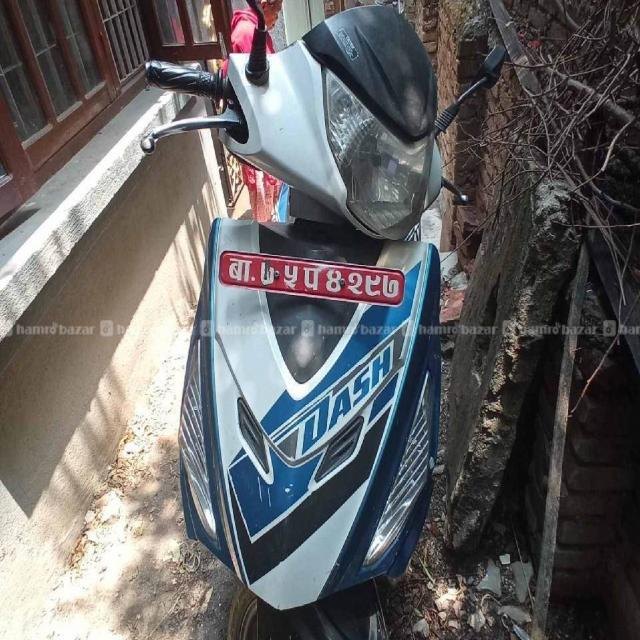License-plate: (217, 246, 406, 306)
